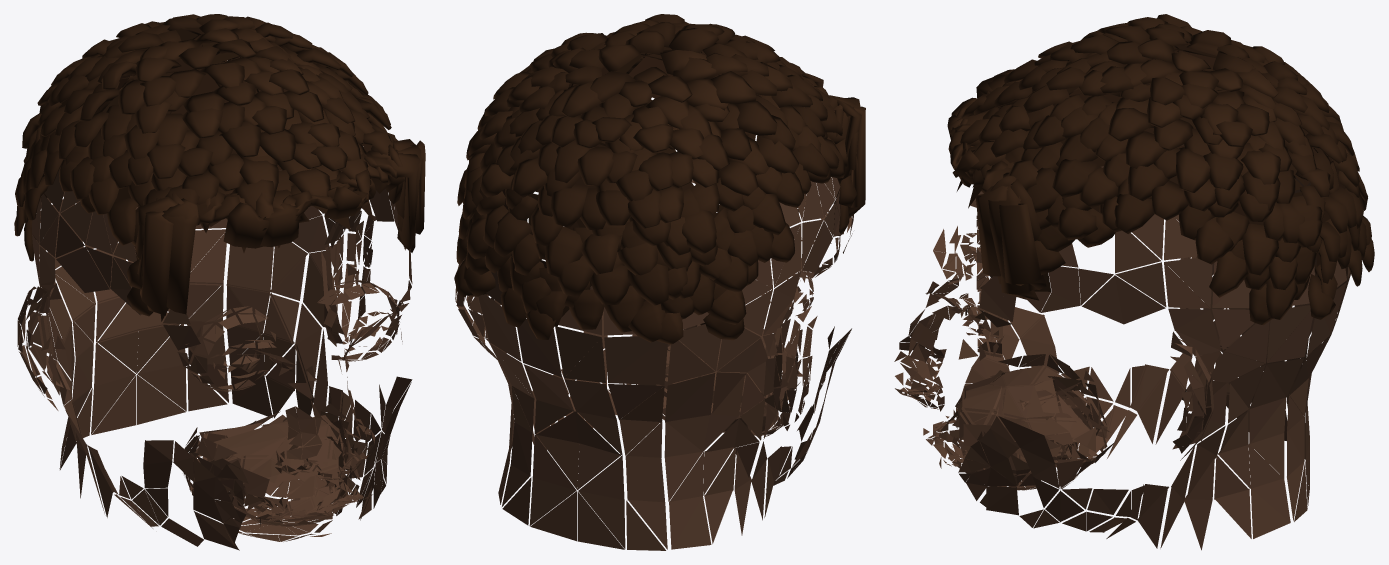
The model's file is kopf.haar.militaer.glb.
3 renders of one model, left to right at view 1: azimuth 30°, elevation 25°; view 2: azimuth 150°, elevation 25°; view 3: azimuth 270°, elevation 25°, orthographic.
Parts seen in each view (by area): view 1: haar; view 2: haar; view 3: haar.
Boxes of the visible parts, x1,y1,x2,y2 form: haar: [14, 14, 425, 550]; haar: [454, 14, 865, 550]; haar: [894, 14, 1374, 550].
Bounding box in the file's own units: 0.1678 × 0.2111 × 0.1998.
